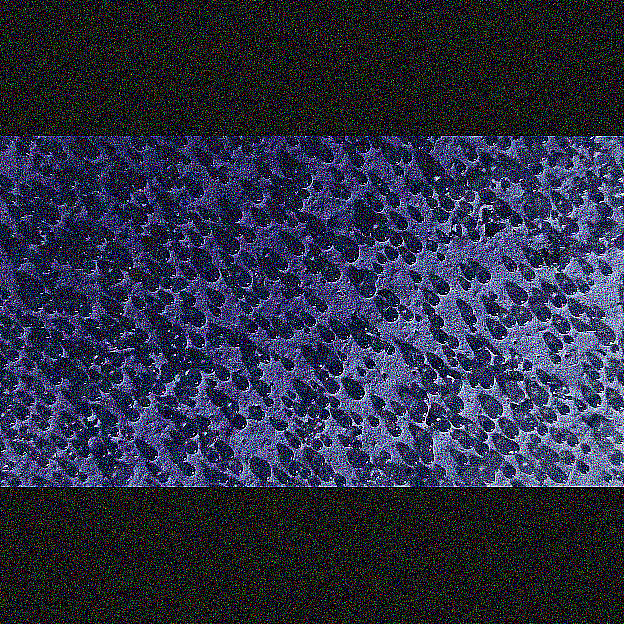GrassBeadSeg: (3, 181, 556, 472), (25, 204, 618, 443), (88, 151, 572, 440), (117, 193, 591, 474), (68, 227, 622, 440), (4, 292, 613, 481), (5, 195, 479, 434), (88, 254, 575, 478), (162, 135, 451, 482), (202, 203, 574, 449), (65, 170, 566, 336), (143, 192, 528, 406), (40, 148, 311, 431), (210, 256, 576, 465), (194, 270, 538, 468), (151, 262, 519, 442), (158, 189, 384, 482), (153, 221, 409, 463), (122, 213, 368, 461), (89, 171, 294, 462), (121, 252, 452, 432), (35, 235, 499, 362), (1, 234, 243, 475), (43, 287, 436, 429), (219, 317, 554, 472), (84, 215, 533, 325), (184, 282, 472, 453), (66, 215, 549, 315), (48, 179, 367, 330), (208, 235, 420, 462), (80, 213, 541, 317), (120, 216, 324, 450), (43, 248, 322, 419), (211, 242, 423, 463), (131, 255, 414, 411), (42, 190, 215, 434), (321, 286, 578, 448), (32, 297, 485, 388), (183, 250, 397, 438), (161, 321, 475, 449), (293, 288, 497, 483), (79, 287, 305, 457), (146, 358, 556, 451), (118, 258, 361, 409), (363, 212, 518, 448), (274, 307, 498, 468), (320, 275, 559, 424), (326, 192, 498, 394), (144, 264, 322, 459), (260, 178, 449, 360), (337, 270, 512, 466), (268, 261, 413, 461), (357, 336, 579, 466), (8, 339, 225, 469), (279, 327, 521, 439), (266, 299, 563, 389), (188, 379, 519, 454), (2, 227, 361, 295), (384, 298, 519, 478), (232, 243, 359, 428), (26, 135, 101, 402), (503, 282, 603, 476), (234, 244, 591, 298), (177, 271, 476, 333), (158, 225, 329, 333), (7, 294, 272, 362), (73, 316, 317, 387), (177, 319, 305, 452), (125, 356, 325, 440), (257, 384, 490, 455), (186, 373, 336, 481), (6, 135, 129, 262), (190, 371, 320, 480), (215, 267, 339, 381), (212, 235, 406, 305), (112, 330, 249, 424), (121, 258, 218, 389), (139, 398, 505, 432), (140, 327, 312, 395), (291, 350, 425, 435), (86, 260, 289, 316), (215, 294, 498, 333), (318, 219, 408, 340), (86, 261, 377, 298), (438, 164, 544, 262), (33, 224, 189, 288), (404, 257, 466, 413), (91, 213, 237, 279), (19, 167, 102, 283), (149, 288, 249, 376), (417, 135, 511, 221), (275, 357, 365, 445), (127, 402, 502, 421), (13, 146, 112, 213), (252, 155, 365, 213), (272, 223, 327, 339), (379, 370, 438, 477), (374, 143, 468, 209), (130, 348, 329, 379), (255, 145, 356, 202), (368, 345, 446, 418), (285, 168, 369, 235), (526, 400, 617, 461), (75, 336, 188, 385), (109, 304, 502, 318), (343, 249, 491, 284), (26, 176, 89, 252), (183, 465, 515, 479), (103, 181, 219, 221), (536, 307, 612, 368), (302, 408, 367, 478), (376, 136, 436, 211), (134, 155, 191, 233), (32, 216, 87, 296), (501, 156, 623, 189), (191, 311, 242, 389), (254, 355, 330, 407), (470, 315, 524, 388), (255, 410, 325, 466), (19, 338, 106, 382), (335, 139, 398, 198), (366, 359, 425, 422), (355, 436, 434, 482), (422, 426, 543, 456), (371, 370, 433, 427), (133, 153, 231, 189), (192, 186, 280, 226), (289, 138, 354, 191), (118, 138, 185, 188), (194, 336, 239, 410), (499, 361, 604, 392), (431, 315, 472, 394), (135, 135, 236, 165), (21, 146, 117, 177), (29, 302, 254, 315), (527, 407, 570, 475), (228, 215, 265, 288), (564, 179, 602, 249), (396, 469, 567, 484), (48, 349, 123, 383), (235, 138, 297, 178), (451, 327, 508, 370), (566, 336, 620, 381), (534, 437, 591, 479), (580, 409, 623, 464), (78, 363, 118, 422), (12, 211, 58, 262), (554, 236, 612, 275), (55, 325, 92, 385), (322, 150, 368, 198), (287, 400, 313, 484), (415, 295, 444, 370), (529, 198, 584, 236), (569, 193, 614, 239), (213, 331, 272, 364), (176, 310, 244, 338), (253, 360, 295, 405), (503, 151, 548, 191), (140, 314, 193, 346), (468, 206, 538, 230), (7, 363, 36, 420), (383, 255, 470, 274), (166, 250, 216, 282), (436, 332, 484, 365), (418, 189, 464, 223), (554, 284, 596, 319), (41, 215, 70, 265), (202, 139, 255, 166), (242, 343, 266, 402), (186, 270, 226, 305), (455, 166, 517, 188), (53, 375, 73, 438), (118, 267, 220, 279), (178, 318, 218, 347), (291, 465, 345, 486), (163, 271, 229, 288), (392, 406, 428, 436), (470, 316, 491, 367), (286, 403, 325, 430), (589, 310, 617, 346), (251, 343, 264, 419), (298, 380, 325, 416), (8, 434, 35, 469), (392, 135, 423, 164), (6, 400, 31, 435), (334, 416, 363, 446), (23, 322, 66, 342), (282, 439, 301, 483), (5, 415, 27, 453), (583, 266, 613, 293), (325, 398, 341, 446), (71, 444, 118, 460), (331, 360, 352, 395), (120, 279, 153, 301), (186, 400, 211, 429), (1, 292, 11, 362), (427, 385, 444, 425), (159, 231, 204, 246), (32, 440, 67, 459), (549, 161, 573, 188), (45, 232, 57, 285), (541, 425, 574, 444), (61, 444, 79, 476), (287, 176, 298, 227), (179, 249, 197, 280), (232, 380, 249, 412), (294, 446, 324, 464), (70, 453, 89, 481), (526, 449, 546, 472), (133, 271, 159, 288), (11, 430, 19, 484), (24, 317, 34, 360), (181, 235, 198, 260), (9, 430, 25, 456), (580, 182, 600, 202), (111, 449, 132, 468), (14, 377, 23, 418), (498, 355, 521, 371), (16, 327, 49, 338), (145, 348, 181, 358), (37, 322, 57, 340), (125, 292, 146, 309), (521, 395, 546, 409), (509, 169, 532, 184), (167, 348, 190, 363), (379, 225, 390, 256), (99, 327, 124, 340), (201, 335, 235, 344), (159, 231, 170, 258), (2, 361, 9, 403), (116, 323, 136, 337), (31, 453, 49, 468), (165, 295, 195, 304), (413, 260, 424, 284), (538, 461, 551, 481), (140, 267, 177, 274), (96, 355, 124, 364), (169, 270, 197, 279), (141, 332, 152, 354), (563, 404, 587, 414), (291, 213, 308, 227), (520, 390, 541, 401), (114, 459, 128, 475), (66, 422, 84, 434), (277, 213, 301, 222), (375, 228, 391, 241), (537, 454, 560, 463), (156, 301, 174, 312), (93, 322, 105, 338), (357, 453, 371, 466), (280, 472, 300, 481), (86, 355, 106, 364), (213, 294, 226, 307), (45, 287, 56, 302), (362, 229, 372, 245), (99, 447, 112, 459), (524, 180, 535, 193), (14, 327, 20, 349), (111, 270, 122, 282), (20, 405, 29, 419), (34, 224, 52, 231), (107, 460, 118, 471), (260, 290, 272, 300), (231, 335, 241, 346), (108, 371, 118, 382), (47, 303, 57, 313), (101, 383, 112, 392), (361, 239, 375, 246), (249, 323, 258, 333), (34, 353, 43, 363), (13, 477, 22, 486), (26, 396, 35, 405), (337, 476, 347, 484), (313, 477, 321, 487), (124, 470, 134, 478), (134, 274, 144, 282), (525, 465, 535, 473), (50, 345, 63, 351), (4, 419, 15, 426), (148, 283, 157, 291), (353, 440, 363, 447), (112, 429, 120, 437), (116, 355, 125, 362), (159, 235, 168, 242), (541, 398, 548, 407), (243, 351, 254, 356), (96, 447, 101, 457), (535, 396, 540, 406), (54, 352, 62, 358), (7, 382, 13, 389), (193, 236, 197, 246), (378, 257, 383, 265), (612, 461, 620, 466), (430, 452, 435, 460), (512, 391, 516, 399), (422, 457, 427, 463), (160, 258, 169, 261), (522, 410, 530, 413), (428, 461, 434, 465), (514, 399, 521, 402)
